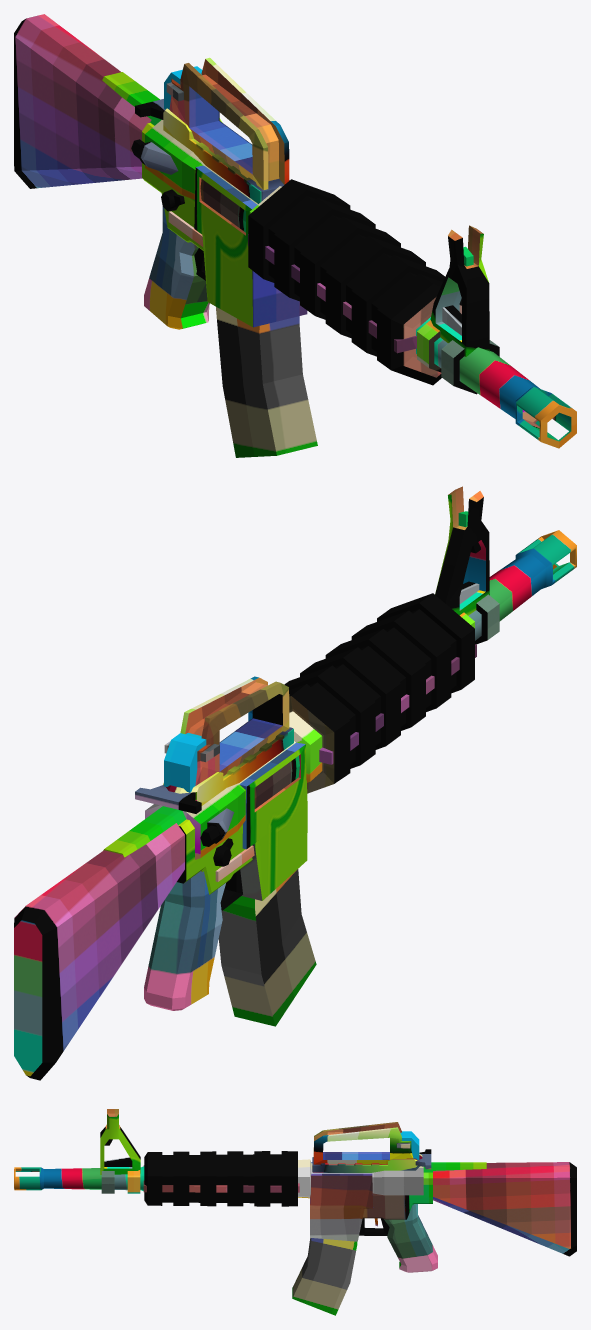
File: M16Rifle.FBX
The picture shows the model from 3 angles, top to bottom: view 1: azimuth 30°, elevation 25°; view 2: azimuth 150°, elevation 25°; view 3: azimuth 270°, elevation 25°; orthographic projection. The views are drawn at different scales.
Visible parts, largest first — view 1: M16Rifle; view 2: M16Rifle; view 3: M16Rifle.
Boxes of the visible parts, <box> form: M16Rifle: <box>14,14,576,457</box>; M16Rifle: <box>14,486,576,1080</box>; M16Rifle: <box>14,1109,576,1315</box>.
Bounding box in the file's own units: 10.92 × 45.1 × 116.
Materials: 1 (1 with a texture image).
